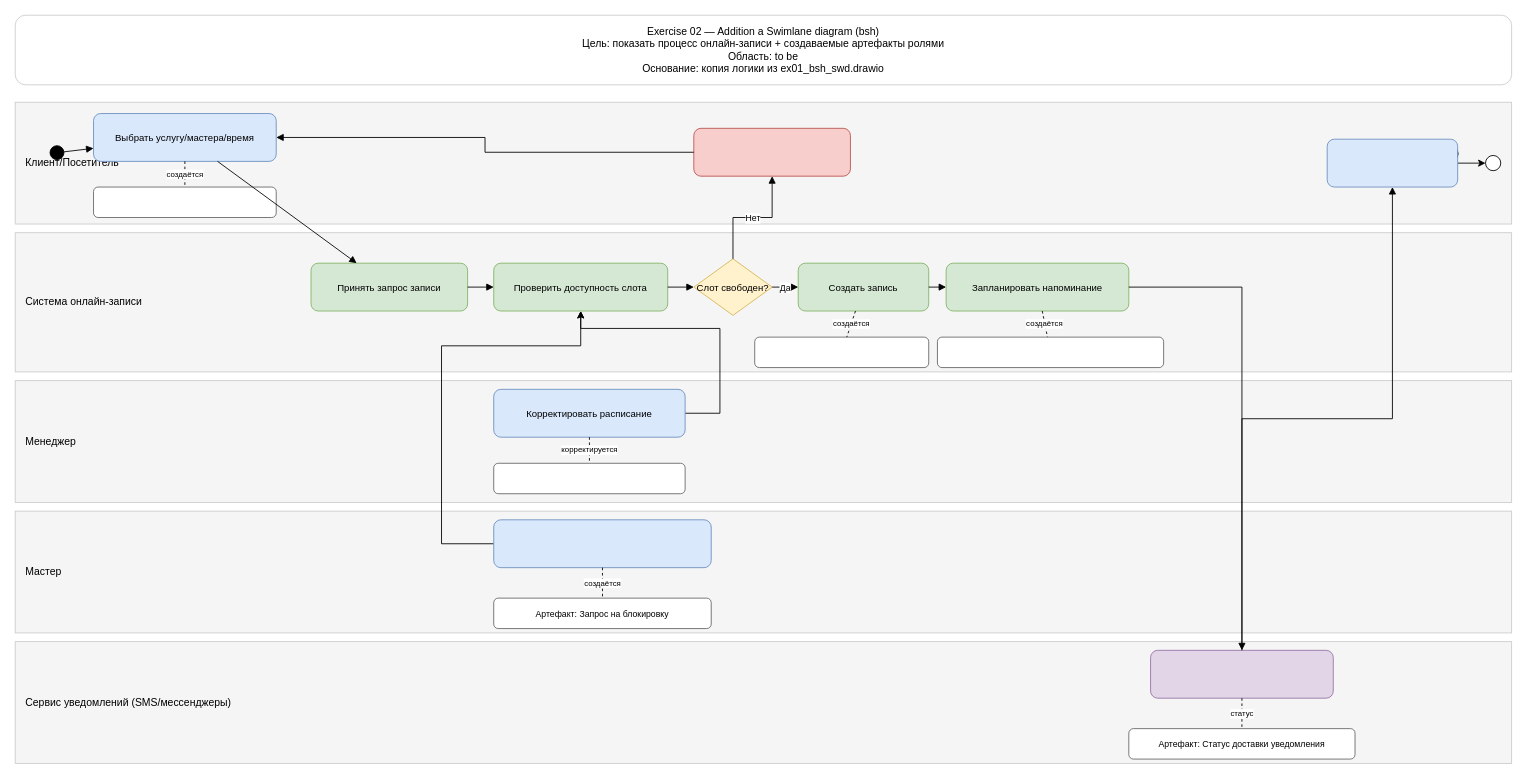
The diagram is 1527 pixels wide and 779 high, and some of its shapes have lost their labels. Here are the shapes that lost their labels. From the top down, the centre of each, then its label:
At [771,151]: "Выбрать другое время".
At [1392,162]: "Получить подтверждение".
At [184,202]: "Артефакт: Запрос на запись".
At [841,352]: "Артефакт: Запись (Appointment)".
At [1050,352]: "Артефакт: Уведомление (шаблон/сообщение)".
At [589,478]: "Артефакт: Слот расписания".
At [602,543]: "Запросить блокировку (отпуск/болезнь)".
At [1241,673]: "Отправить подтверждение".
